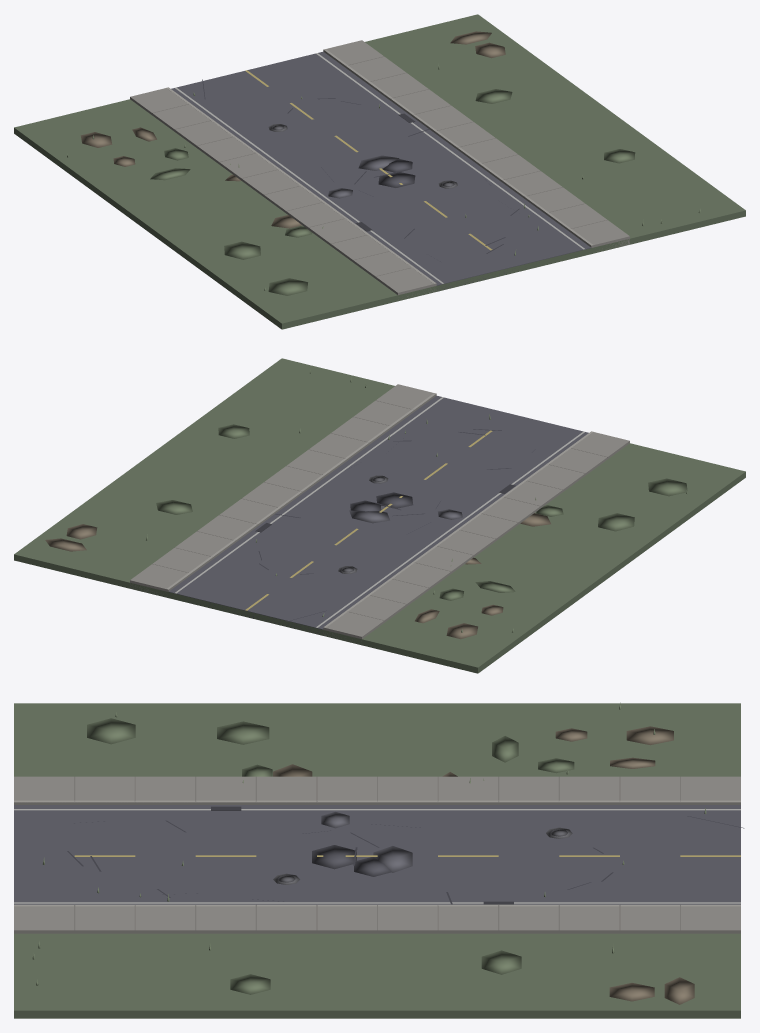
The model's file is rua_reta.glb.
3 renders of one model, top to bottom at view 1: azimuth 30°, elevation 25°; view 2: azimuth 150°, elevation 25°; view 3: azimuth 270°, elevation 25°, orthographic. The views are drawn at different scales.
Parts seen in each view (by area): view 1: rua_reta; view 2: rua_reta; view 3: rua_reta.
Part boxes in pixels (bbox=[...]): rua_reta: bbox=[14, 14, 745, 329]; rua_reta: bbox=[14, 358, 745, 673]; rua_reta: bbox=[14, 702, 744, 1018].
Size of the model in its own units: 24 by 0.6702 by 24.16.
